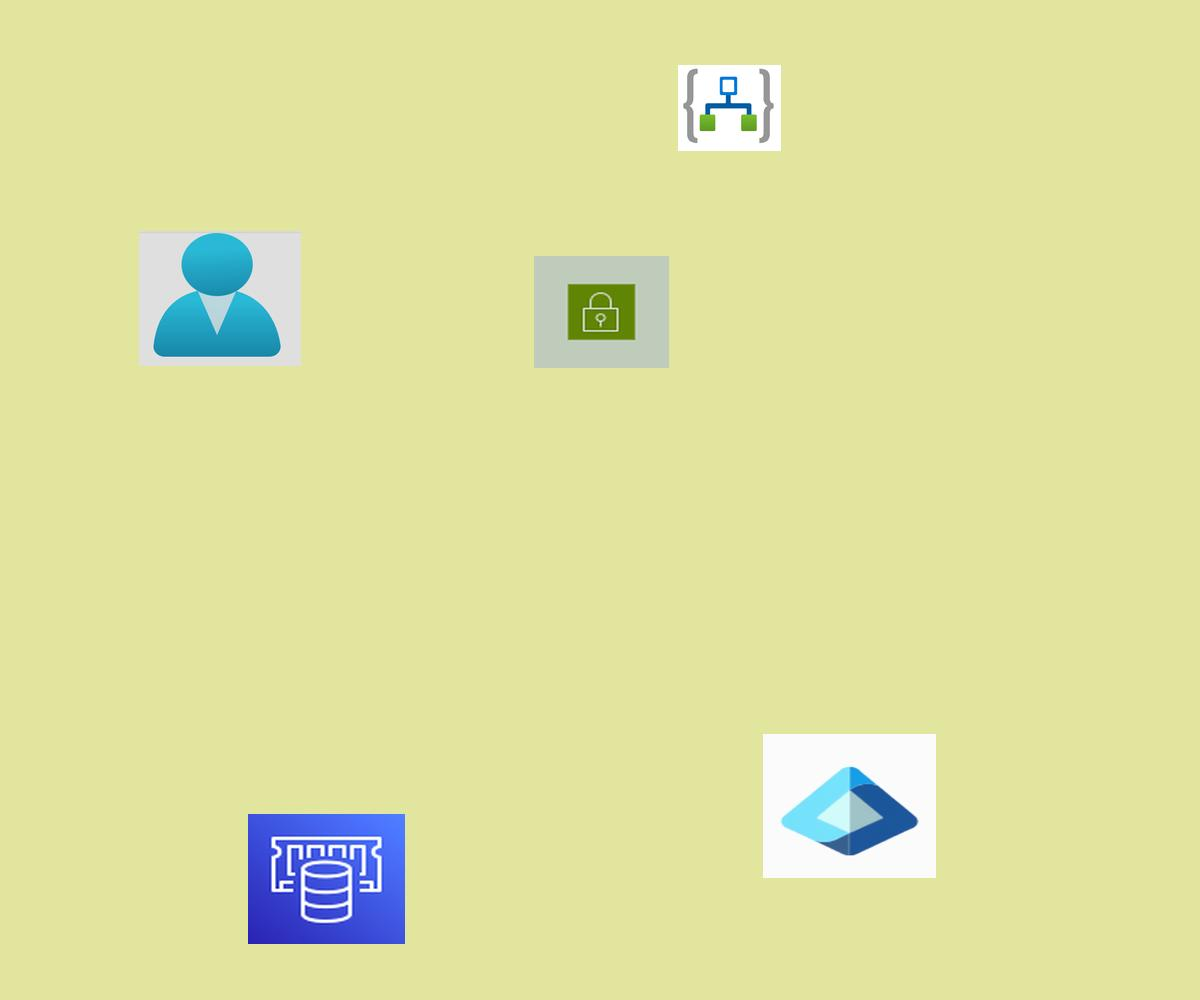AWS-ElastiCache: (248, 814, 405, 944)
AWS-Public-subnet: (534, 256, 669, 368)
Azure_integration-204-Logic-Apps: (678, 65, 781, 151)
Azure_microsoft_entra: (763, 734, 936, 878)
Azure_users: (139, 231, 301, 366)
